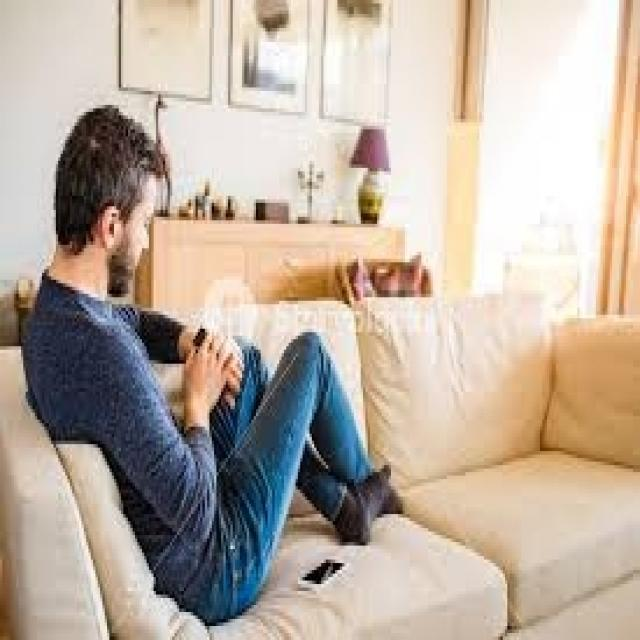sitting: (34, 72, 404, 618)
